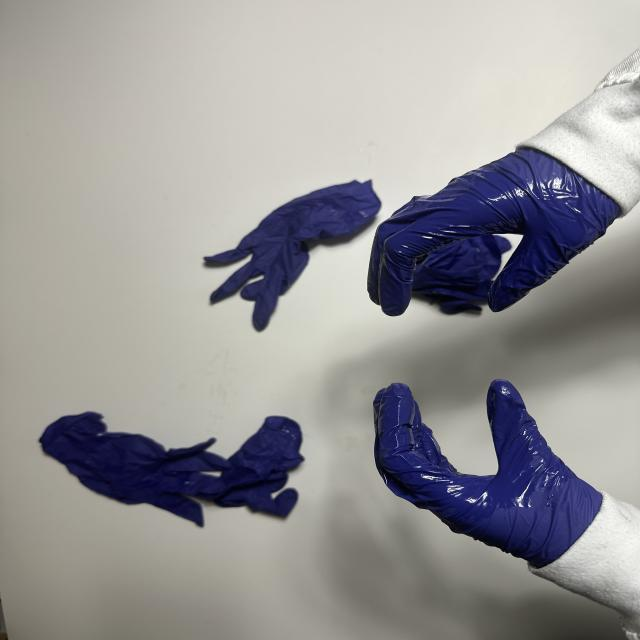gloves_contaminated: (369, 150, 620, 316), (374, 380, 596, 566)
